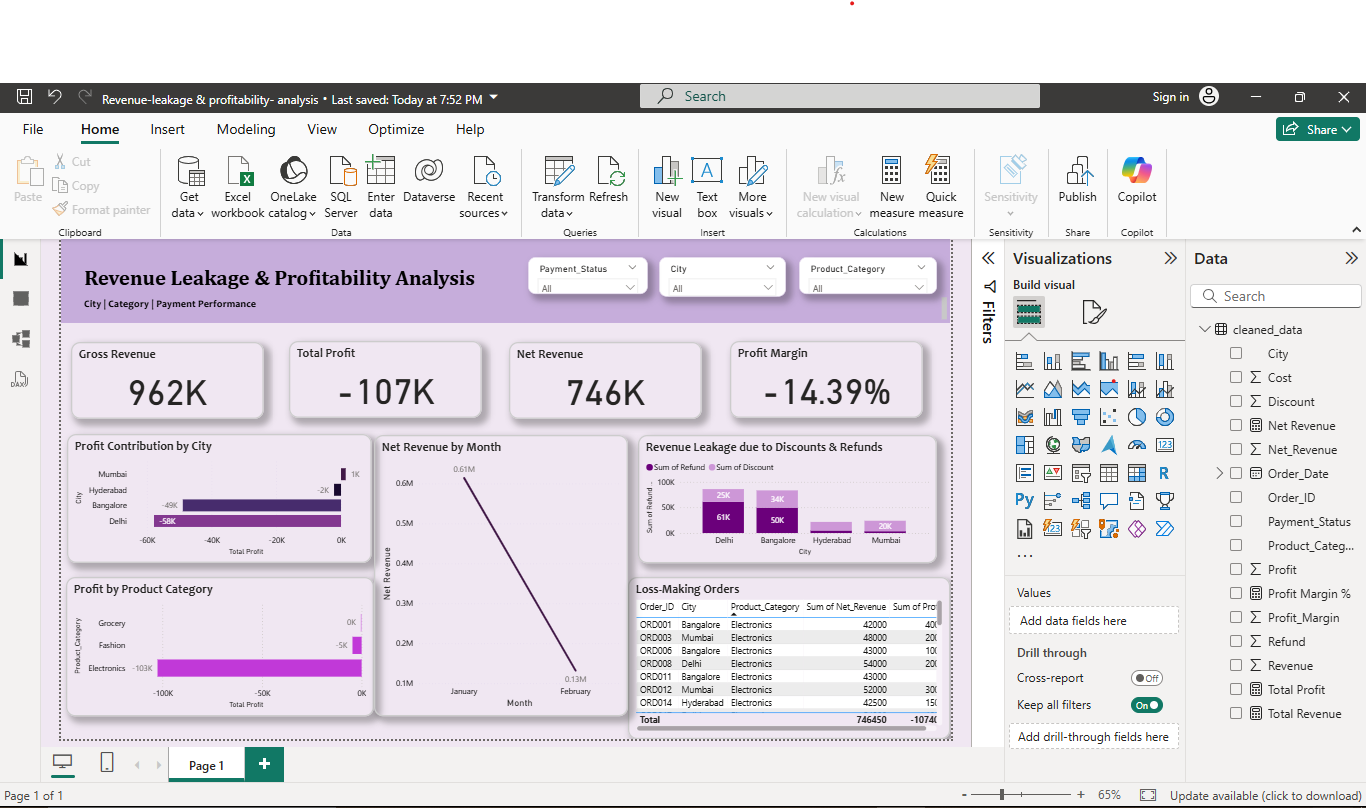

This screenshot's page, from the dashboard's own definition file:
{"tool":"powerbi","page":{"name":"Page 1","canvas":[1366,768],"ordinal":0},"visuals":[{"type":"shape","box":[0,0,1365.5,129],"z":0},{"type":"textbox","box":[30.7,35.3,1334.8,69.1],"z":1000},{"type":"textbox","box":[30.7,84.5,1334.8,44.5],"z":2000},{"type":"card","title":"Gross Revenue","fields":{"Values":["cleaned_data.Total Revenue"]},"box":[15.4,158.2,296.4,118.3],"z":3000},{"type":"card","title":"Net Revenue","fields":{"Values":["cleaned_data.Net Revenue"]},"box":[688.1,158.2,296.4,118.3],"z":4000},{"type":"card","title":"Total Profit","fields":{"Values":["cleaned_data.Total Profit"]},"box":[350.2,156.7,296.4,118.3],"z":5000},{"type":"clusteredBarChart","title":"Profit Contribution by City","fields":{"Category":["cleaned_data.City"],"Y":["cleaned_data.Total Profit"]},"box":[9.2,299.5,468.5,198.1],"z":6000},{"type":"columnChart","title":"Revenue Leakage due to Discounts & Refunds","fields":{"Category":["cleaned_data.City"],"Y":["Sum(cleaned_data.Refund)","Sum(cleaned_data.Discount)"]},"box":[886.3,301.1,459.3,196.6],"z":7000},{"type":"barChart","title":"Profit by Product Category","fields":{"Category":["cleaned_data.Product_Category"],"Y":["cleaned_data.Total Profit"]},"box":[7.7,519.2,473.1,213.5],"z":8000},{"type":"tableEx","title":"Loss-Making Orders","fields":{"Values":["cleaned_data.Order_ID","cleaned_data.City","cleaned_data.Product_Category","Sum(cleaned_data.Net_Revenue)","Sum(cleaned_data.Profit)"]},"box":[870.9,519.2,494.6,248.8],"z":9000},{"type":"slicer","fields":{"Values":["cleaned_data.City"]},"box":[918.5,24.6,195.1,61.4],"z":10000},{"type":"slicer","fields":{"Values":["cleaned_data.Product_Category"]},"box":[1133.6,27.6,212,56.8],"z":11000},{"type":"slicer","fields":{"Values":["cleaned_data.Payment_Status"]},"box":[717.3,27.6,184.3,56.8],"z":12000},{"type":"card","title":"Profit Margin","fields":{"Values":["cleaned_data.Profit Margin %"]},"box":[1027.6,156.7,296,118],"z":13000},{"type":"lineChart","fields":{"Y":["cleaned_data.Net Revenue"],"Category":["cleaned_data.Order_Date.Variation.Date Hierarchy.Month"]},"box":[480.8,301.1,390.1,431.6],"z":14000}]}

Visuals, with their boxes on the page's 1366x768 design canvas (x1, y1, x2, y2). These are canvas units, not pixel positions in the 1366x808 screenshot, which may show the page scaled, cropped or inside an application window:
shape: 0,0,1366,129
textbox: 31,35,1366,104
textbox: 31,84,1366,129
"Gross Revenue" card: 15,158,312,276
"Net Revenue" card: 688,158,984,276
"Total Profit" card: 350,157,647,275
"Profit Contribution by City" clusteredBarChart: 9,300,478,498
"Revenue Leakage due to Discounts & Refunds" columnChart: 886,301,1346,498
"Profit by Product Category" barChart: 8,519,481,733
"Loss-Making Orders" tableEx: 871,519,1366,768
slicer - cleaned_data.City: 918,25,1114,86
slicer - cleaned_data.Product_Category: 1134,28,1346,84
slicer - cleaned_data.Payment_Status: 717,28,902,84
"Profit Margin" card: 1028,157,1324,275
lineChart - cleaned_data.Net Revenue x cleaned_data.Order_Date.Variation.Date Hierarchy.Month: 481,301,871,733
